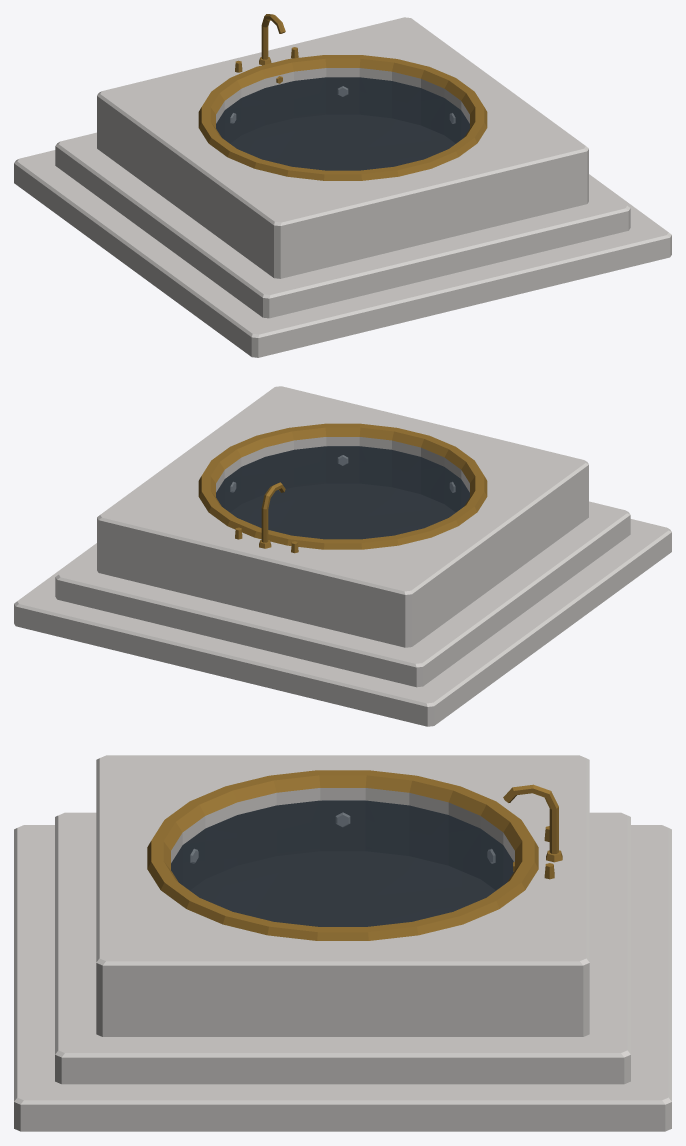
The model's file is round-jetted-suite-tub-2bd9bb.glb.
The picture shows the model from 3 angles, top to bottom: view 1: azimuth 30°, elevation 25°; view 2: azimuth 150°, elevation 25°; view 3: azimuth 270°, elevation 25°; orthographic projection. The views are drawn at different scales.
Visible parts, largest first — view 1: tub, water; view 2: tub, water; view 3: tub, water.
Boxes of the visible parts, bbox=[...] form: tub: bbox=[14, 14, 671, 357]; water: bbox=[216, 77, 469, 170]; tub: bbox=[14, 386, 671, 726]; water: bbox=[216, 446, 469, 539]; tub: bbox=[14, 755, 671, 1131]; water: bbox=[171, 800, 513, 926].
Size of the model in its own units: 4 by 1.39 by 4.
